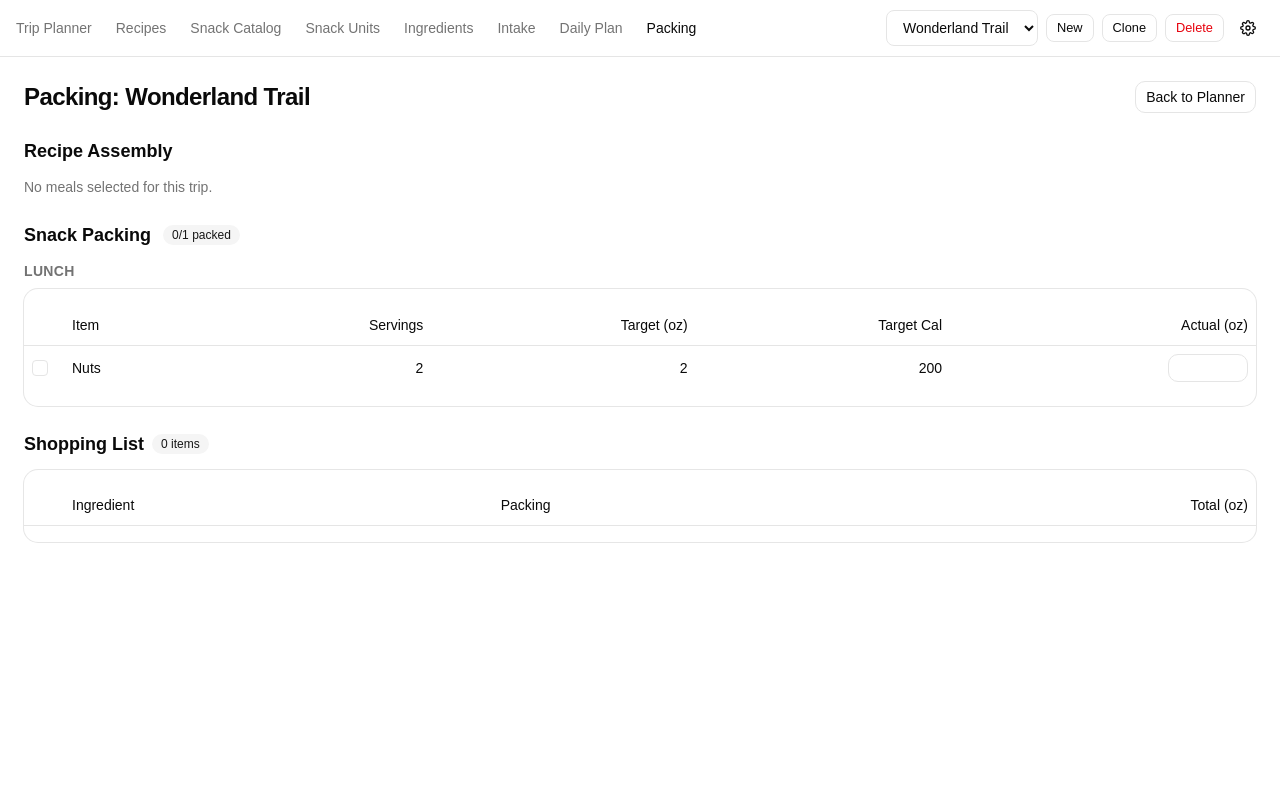
PackingScreen › a failed pack toggle shows an inline error without blanking the page
Click the checkbox named "Nuts packed" at (40, 368), box [32,360,48,376]
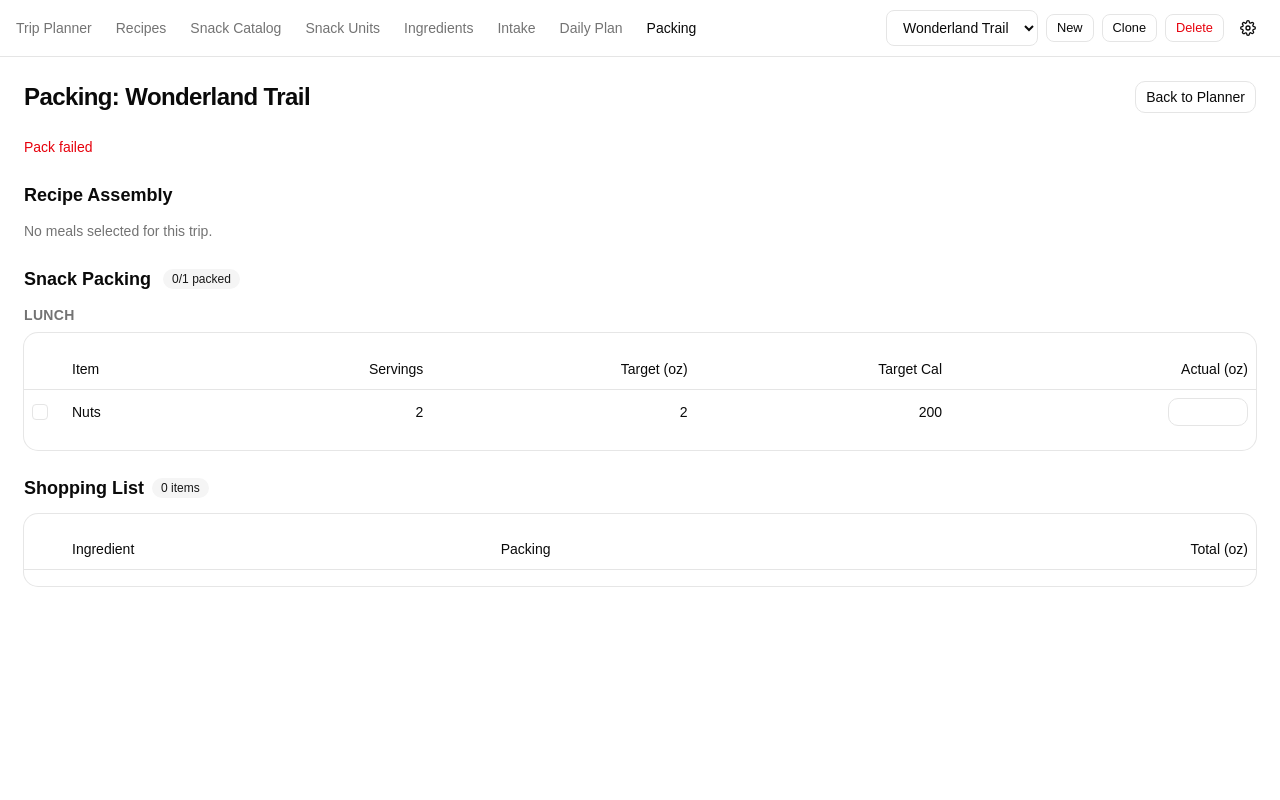
Check: the heading "Packing: Wonderland Trail" is shown, box [24,81,310,113]
Check: the text "Pack failed" is shown, box [24,139,92,155]
